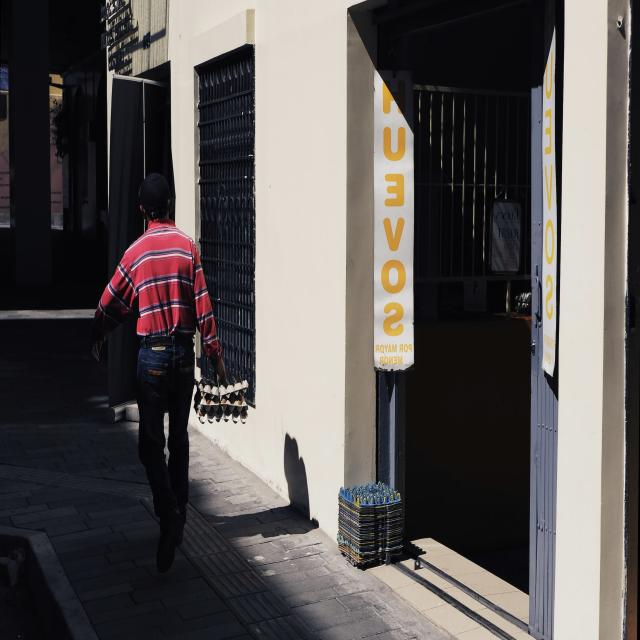adult: (91, 172, 222, 570)
